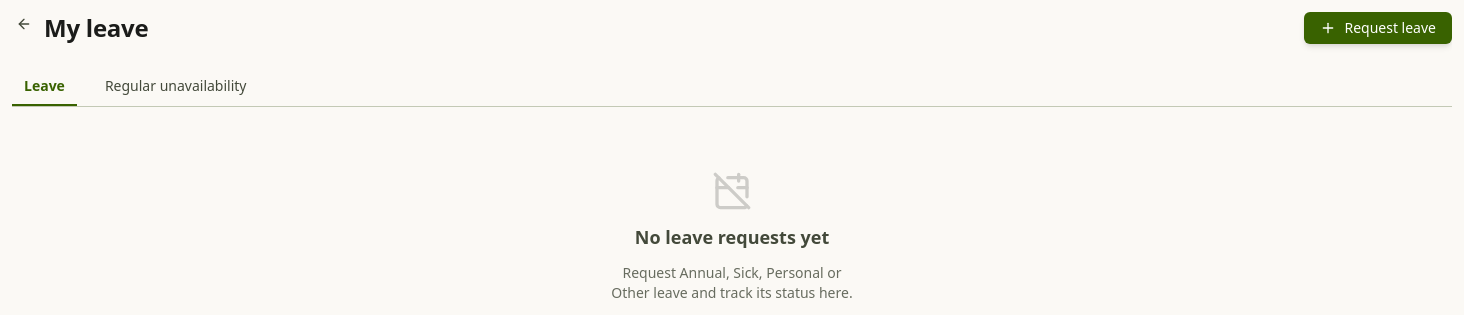
Test: PortalLeavePage › switches to the Regular unavailability tab and lists rules
Click the tab "Regular unavailability": [176, 87] box [93,68,258,106]
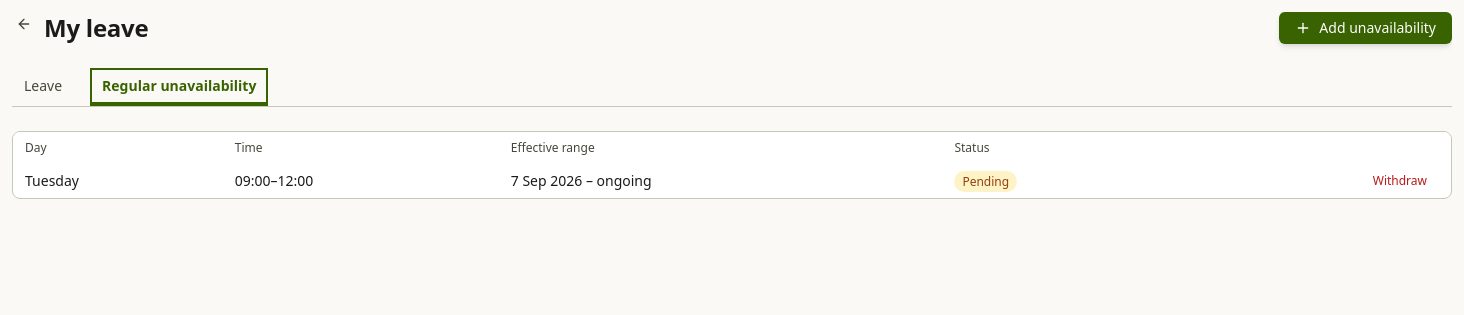
Check: the text "Tuesday" is shown, box [25,171,79,190]
